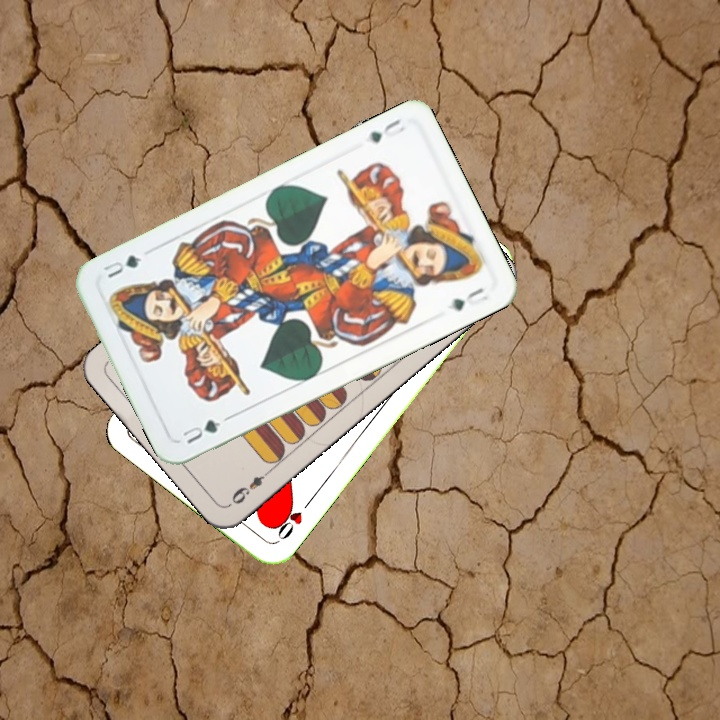E9: (225, 465, 274, 508)
GU: (178, 412, 232, 447), (364, 115, 408, 146)
HO: (269, 494, 315, 545)
